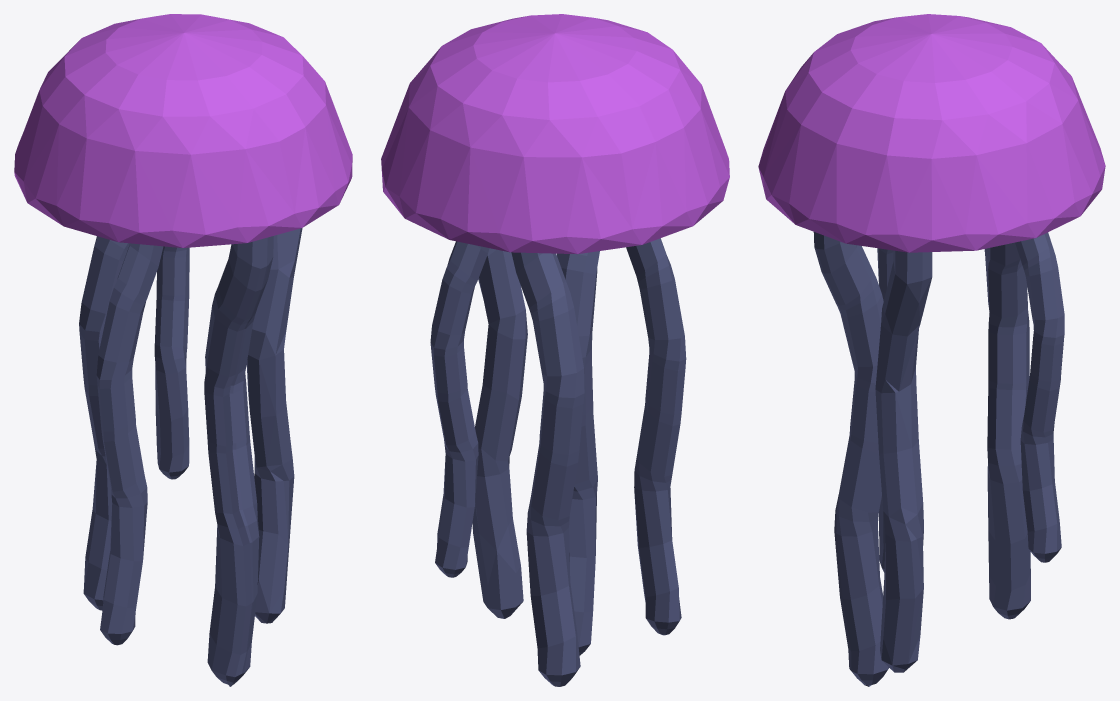
Rendered from ocean_one_Unity.fbx.
3 views of the same model, side by side, from view 1: azimuth 30°, elevation 25°; view 2: azimuth 150°, elevation 25°; view 3: azimuth 270°, elevation 25° (orthographic). The views are drawn at different scales.
Visible parts, largest first — view 1: Meduses; view 2: Meduses; view 3: Meduses.
Part boxes in pixels (x1,y1,x2,y2): Meduses: (14,14,352,686); Meduses: (381,14,729,686); Meduses: (758,14,1105,686).
Bounding box in the file's own units: 317 × 651 × 317.
